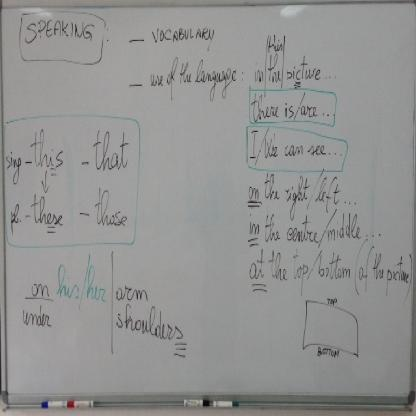Handwritten text: (248, 242, 412, 299), (2, 117, 133, 184), (4, 180, 129, 239), (22, 246, 109, 309), (148, 50, 236, 107), (241, 210, 361, 250), (240, 168, 344, 212), (245, 125, 328, 171), (24, 8, 94, 61), (250, 53, 327, 91), (247, 87, 323, 125), (110, 303, 181, 341), (148, 15, 221, 51), (111, 275, 154, 305), (18, 304, 56, 333), (261, 23, 285, 62)
Whiteboard: (2, 1, 416, 412)
